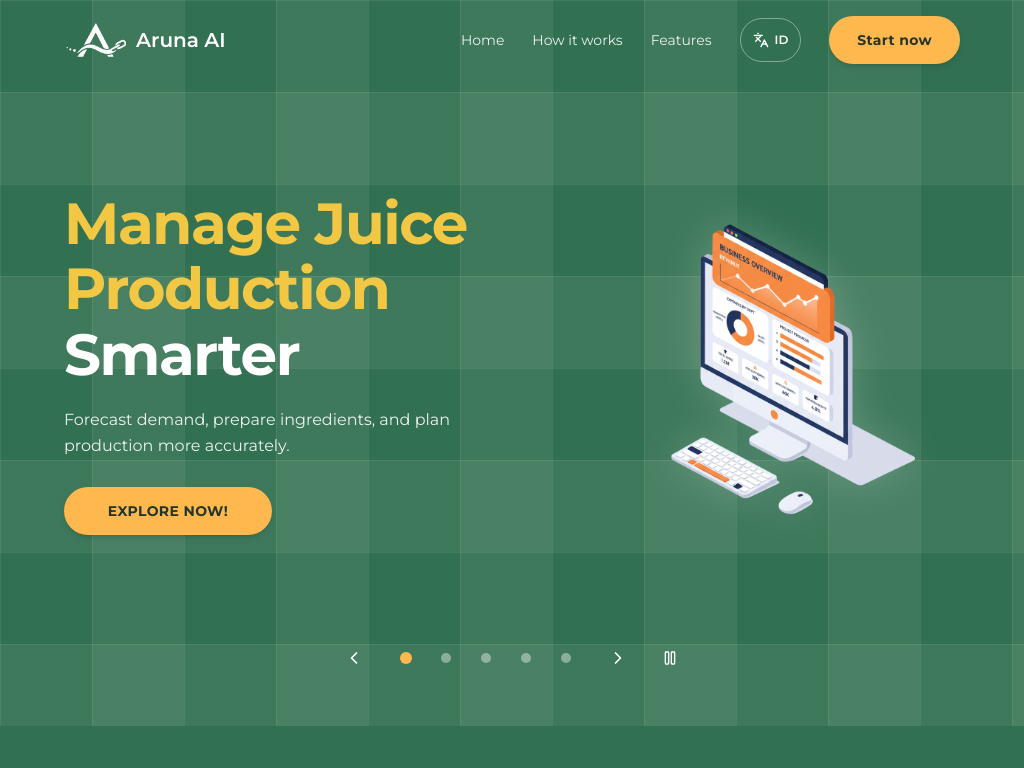
it: inventory landing page › defaults to English, links to overview, and switches all content to Indonesian
Expected: the heading shows "Manage Juice Production", [64,188,467,324]
Click the button with aria-label "Switch to Indonesian". click: coordinates (770, 40)
box: [740,18,801,62]
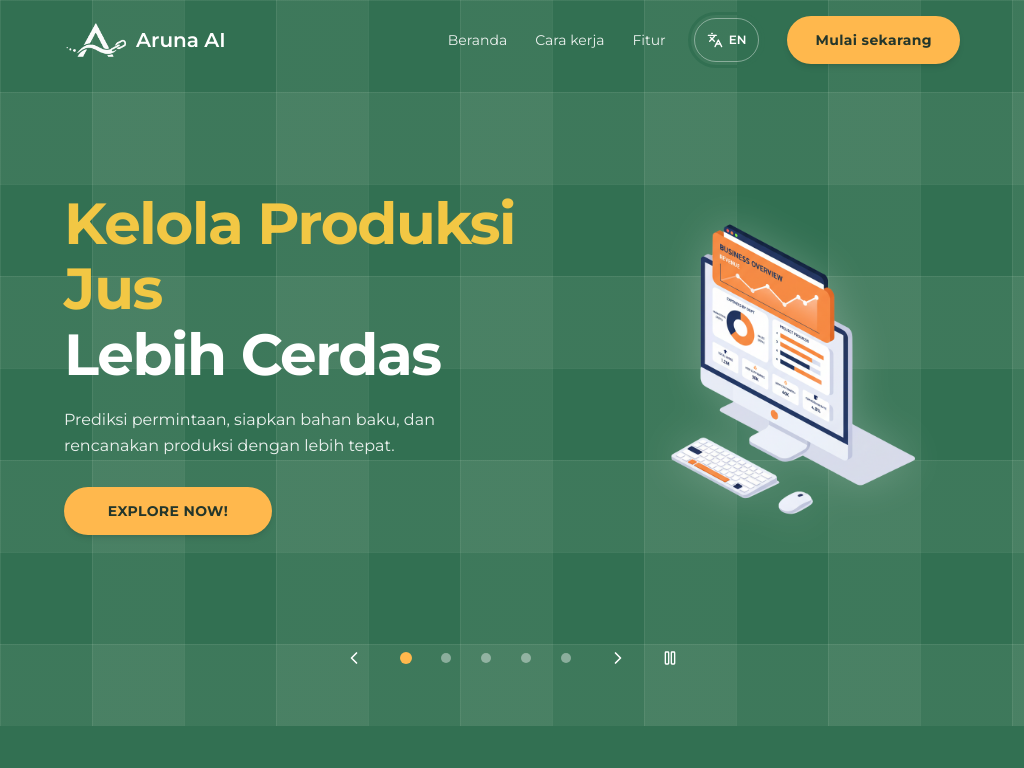
Result: the heading shows "Kelola Produksi Jus" at [64,188,515,324]
Click the button with aria-label "Ganti ke bahasa Inggris". click: coordinates (727, 40)
box: [694,18,760,62]
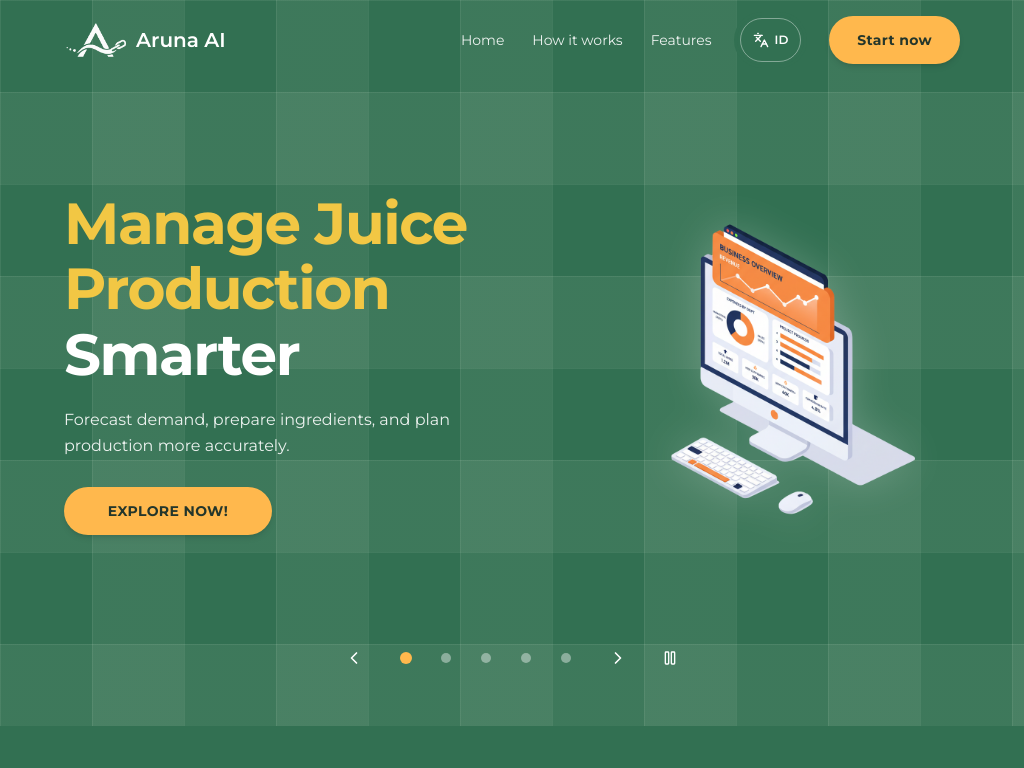
Result: the heading shows "Manage Juice Production" at [64,188,467,324]
